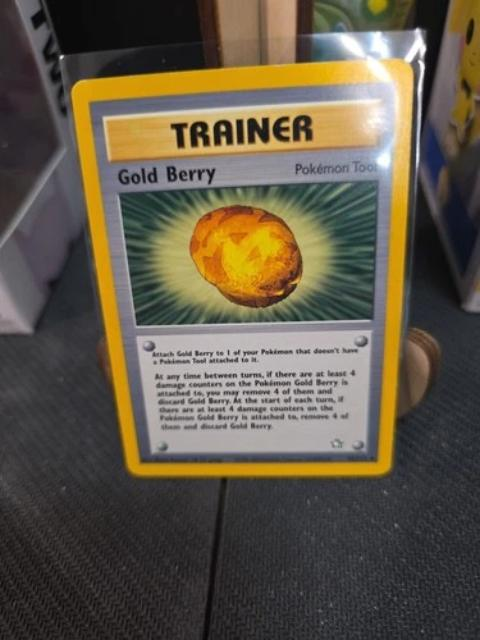Card: (63, 53, 417, 483)
Name: (112, 156, 223, 192)
